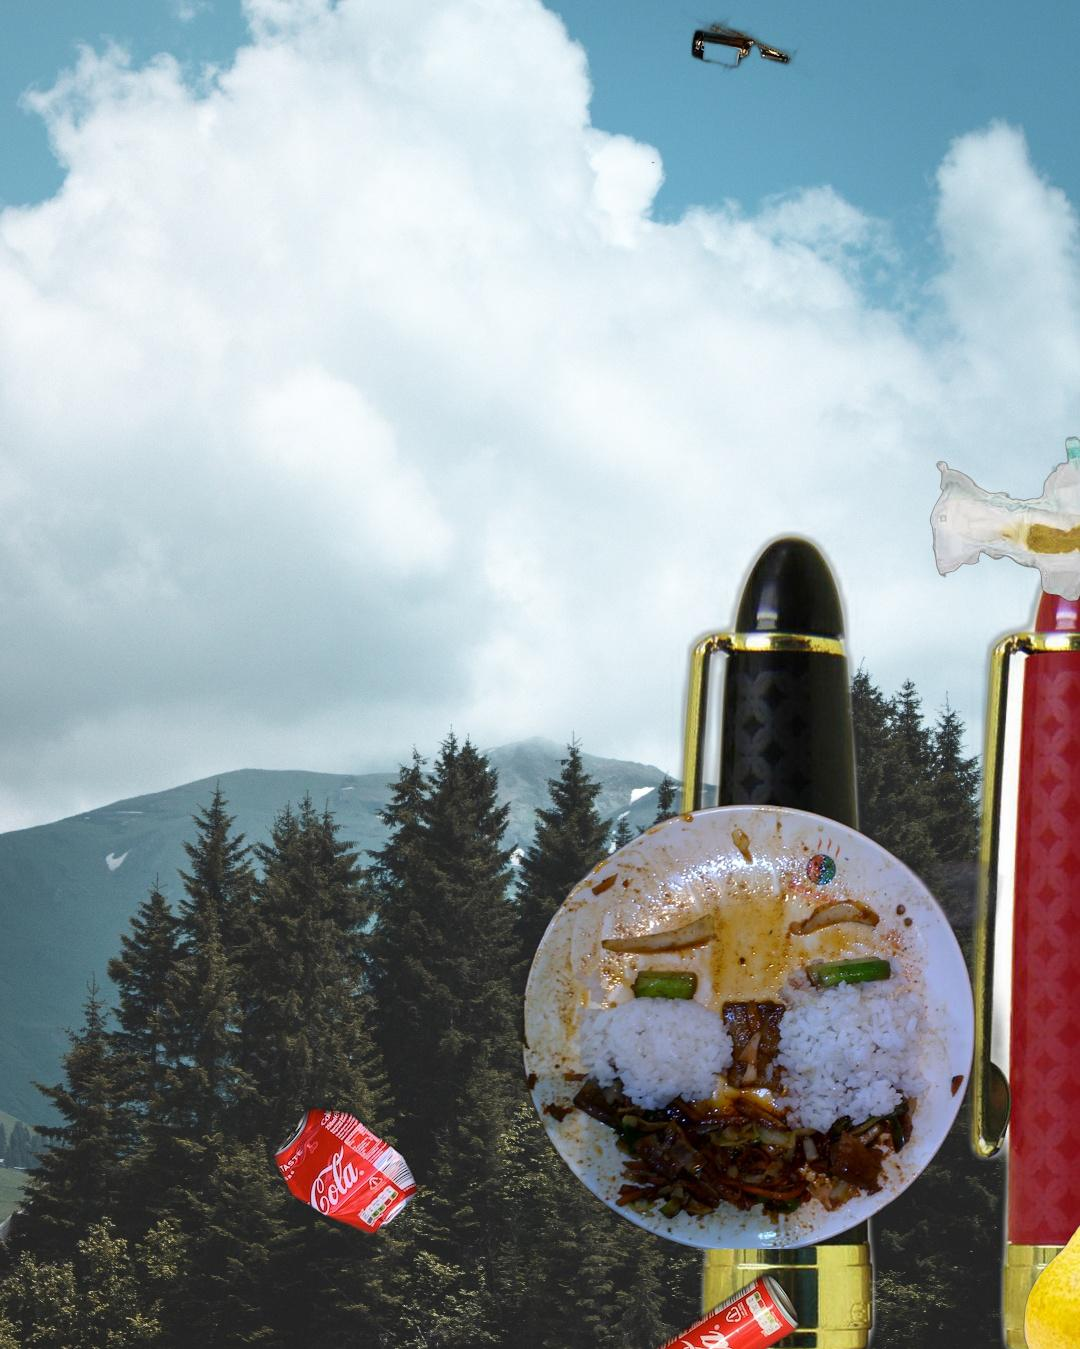biological: (517, 800, 1007, 1249), (1020, 1170, 1080, 1349)
glass: (676, 6, 818, 82)
metal-cans: (630, 883, 1024, 1349), (268, 1099, 422, 1241)
penholder: (652, 516, 1080, 1349)
trash: (927, 434, 1080, 604)
